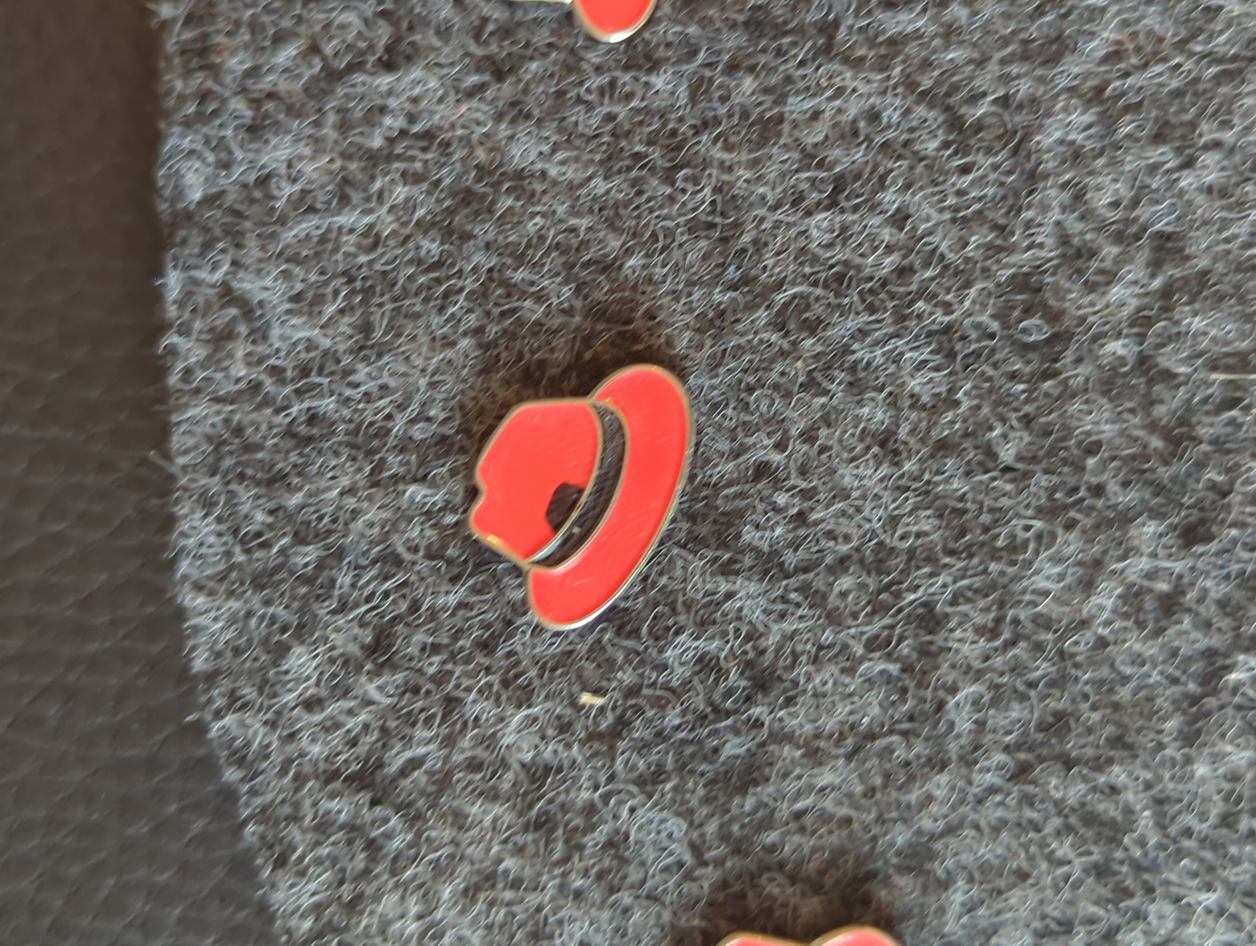Red-Hat: (374, 287, 770, 681)
Scratch: (514, 452, 611, 567)
